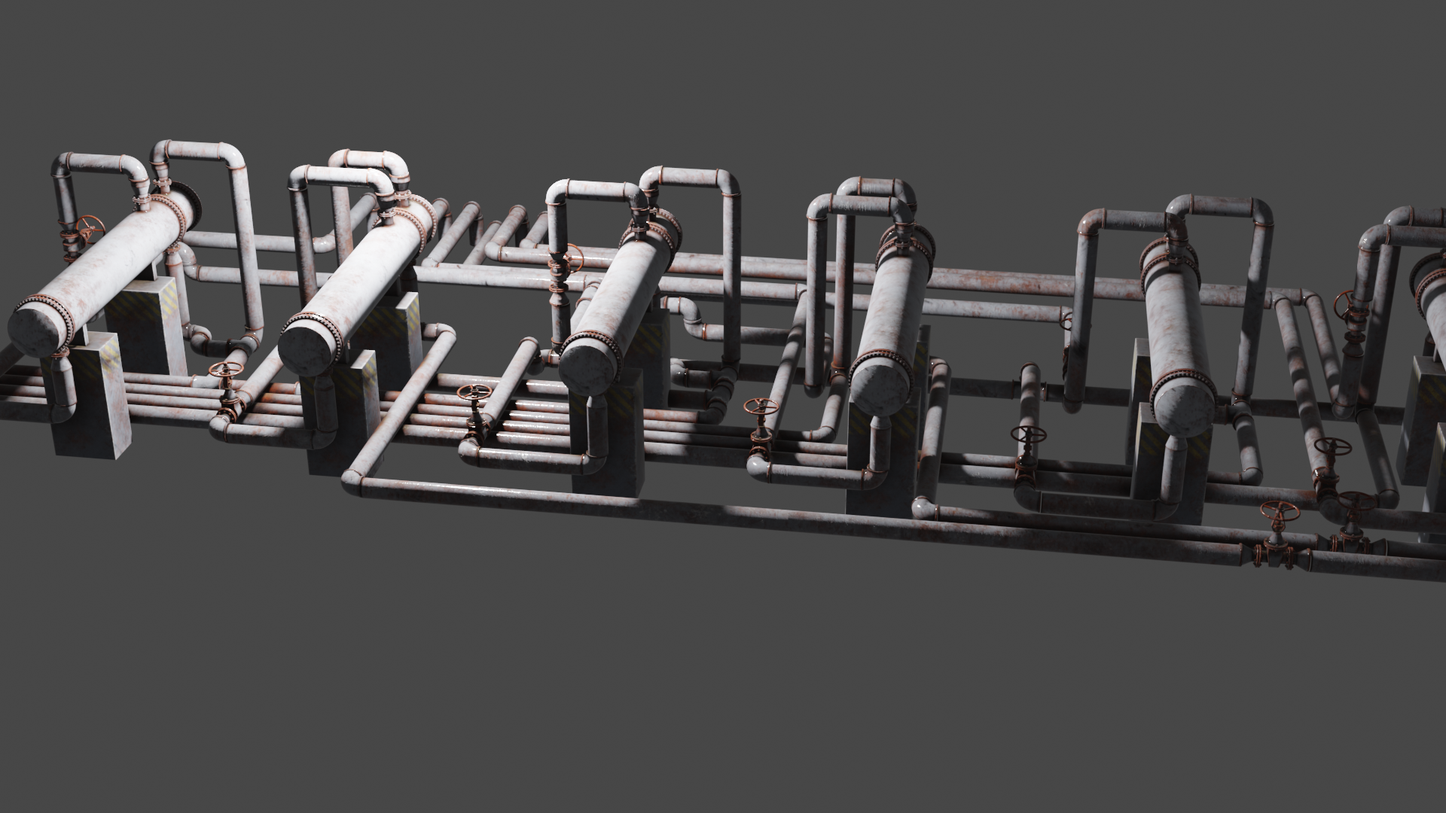HE_1: (1401, 241, 1446, 379)
HE_2: (1136, 228, 1218, 444)
HE_3: (842, 216, 941, 424)
HE_4: (552, 203, 681, 397)
HE_5: (271, 183, 439, 378)
HE_6: (3, 176, 203, 362)
